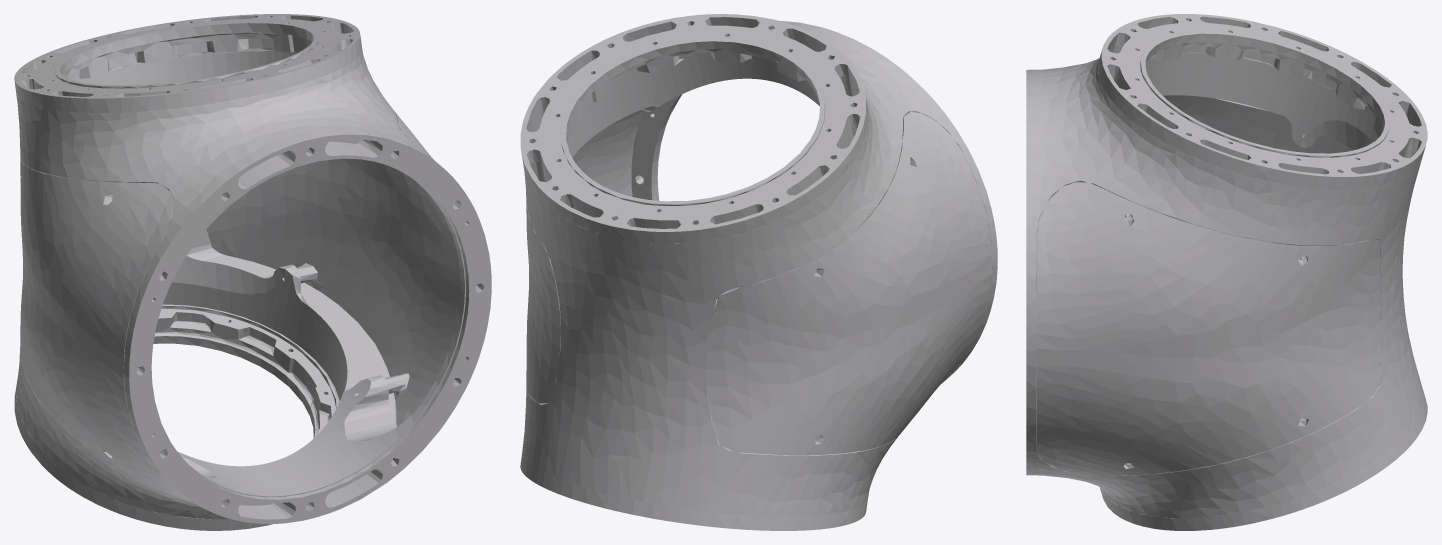
File: r2cl_ext_pelvis.dae
The picture shows the model from 3 angles, left to right: view 1: azimuth 30°, elevation 25°; view 2: azimuth 150°, elevation 25°; view 3: azimuth 270°, elevation 25°; orthographic projection. The views are drawn at different scales.
Visible parts, largest first — view 1: node; view 2: node; view 3: node.
Part boxes in pixels (bbox=[...]): node: bbox=[14, 14, 491, 530]; node: bbox=[520, 14, 997, 530]; node: bbox=[1026, 14, 1427, 530].
Size of the model in its own units: 0.2167 by 0.2516 by 0.2114.
1 material, 1 textured.
